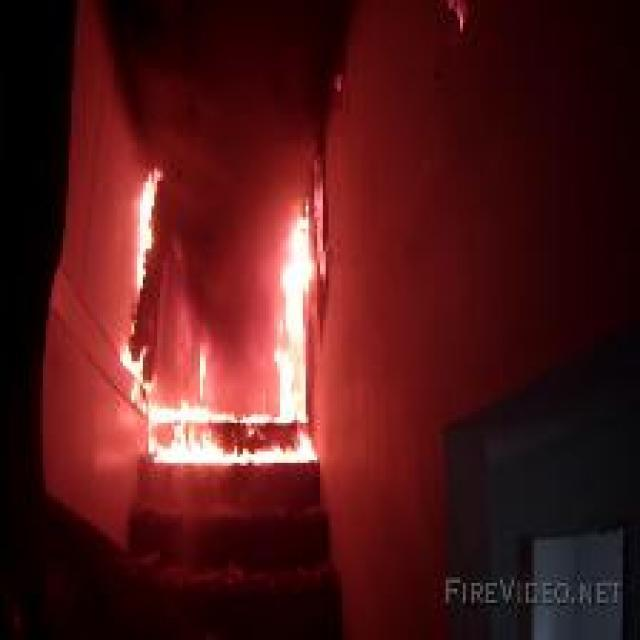Fire: (148, 202, 322, 464), (134, 166, 166, 292), (116, 340, 153, 394)
